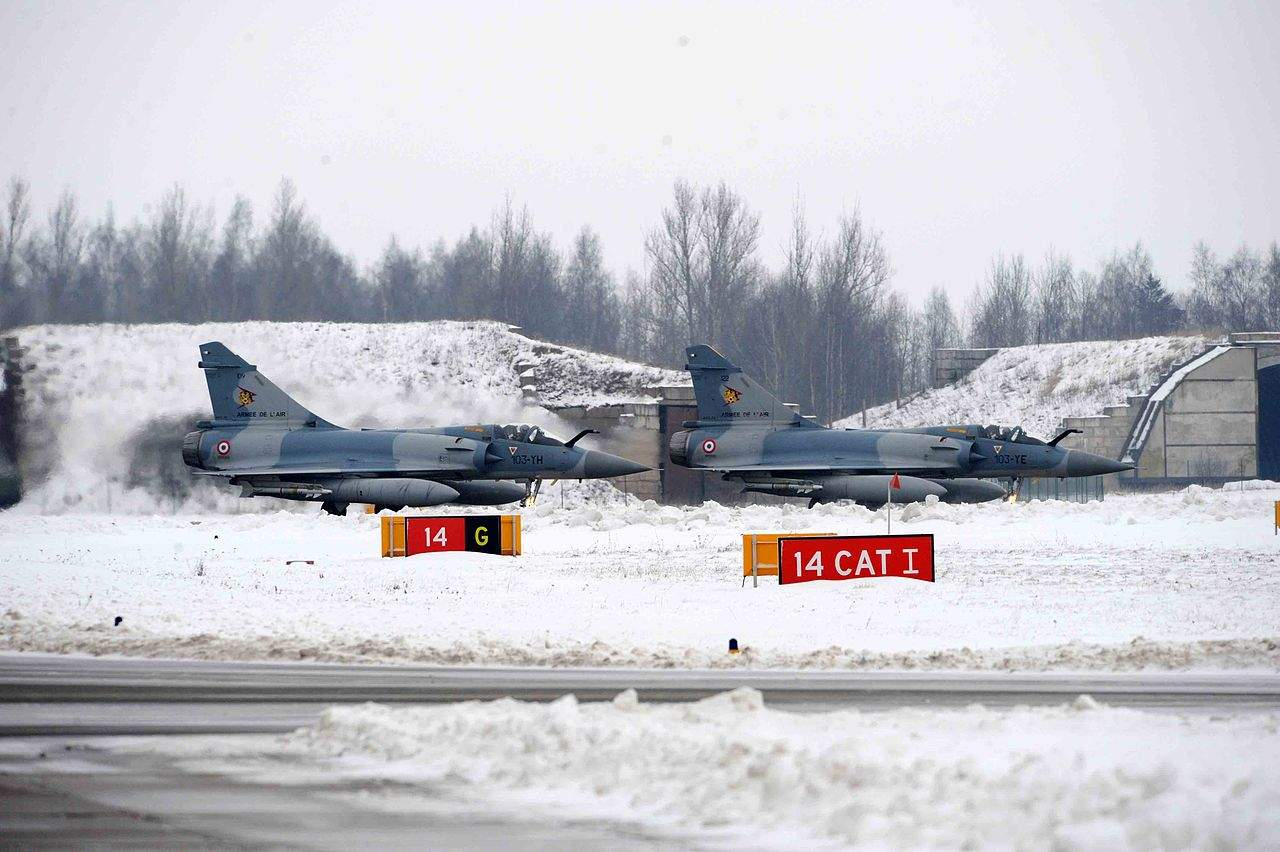Mirage2000: (182, 341, 666, 517), (668, 344, 1148, 511)
